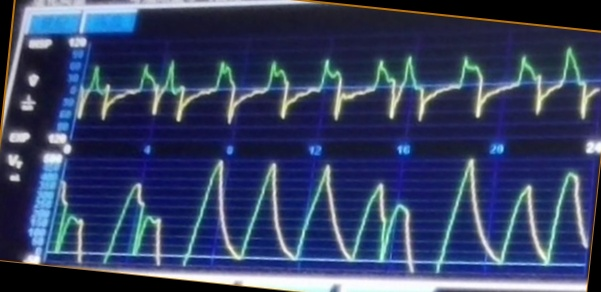Double_Triggering Flow: (85, 43, 595, 137)
Double_Triggering Volume: (49, 157, 588, 262)
